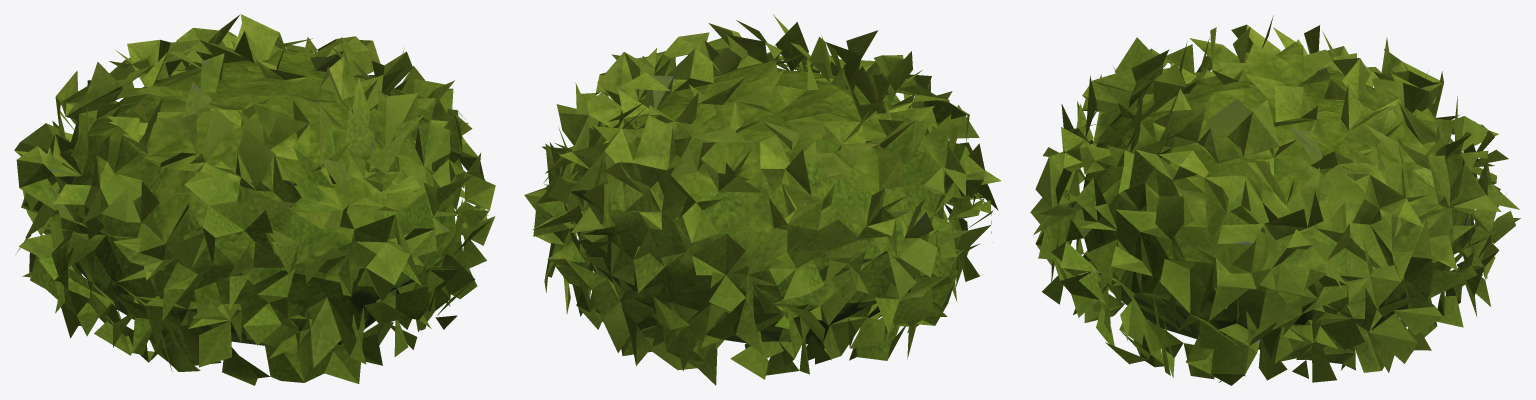
Rendered from hedge_b.glb.
The picture shows the model from 3 angles, left to right: view 1: azimuth 30°, elevation 25°; view 2: azimuth 150°, elevation 25°; view 3: azimuth 270°, elevation 25°; orthographic projection. The views are drawn at different scales.
Size of the model in its own units: 1.84 by 1.07 by 1.88.
1 material, 1 textured.
